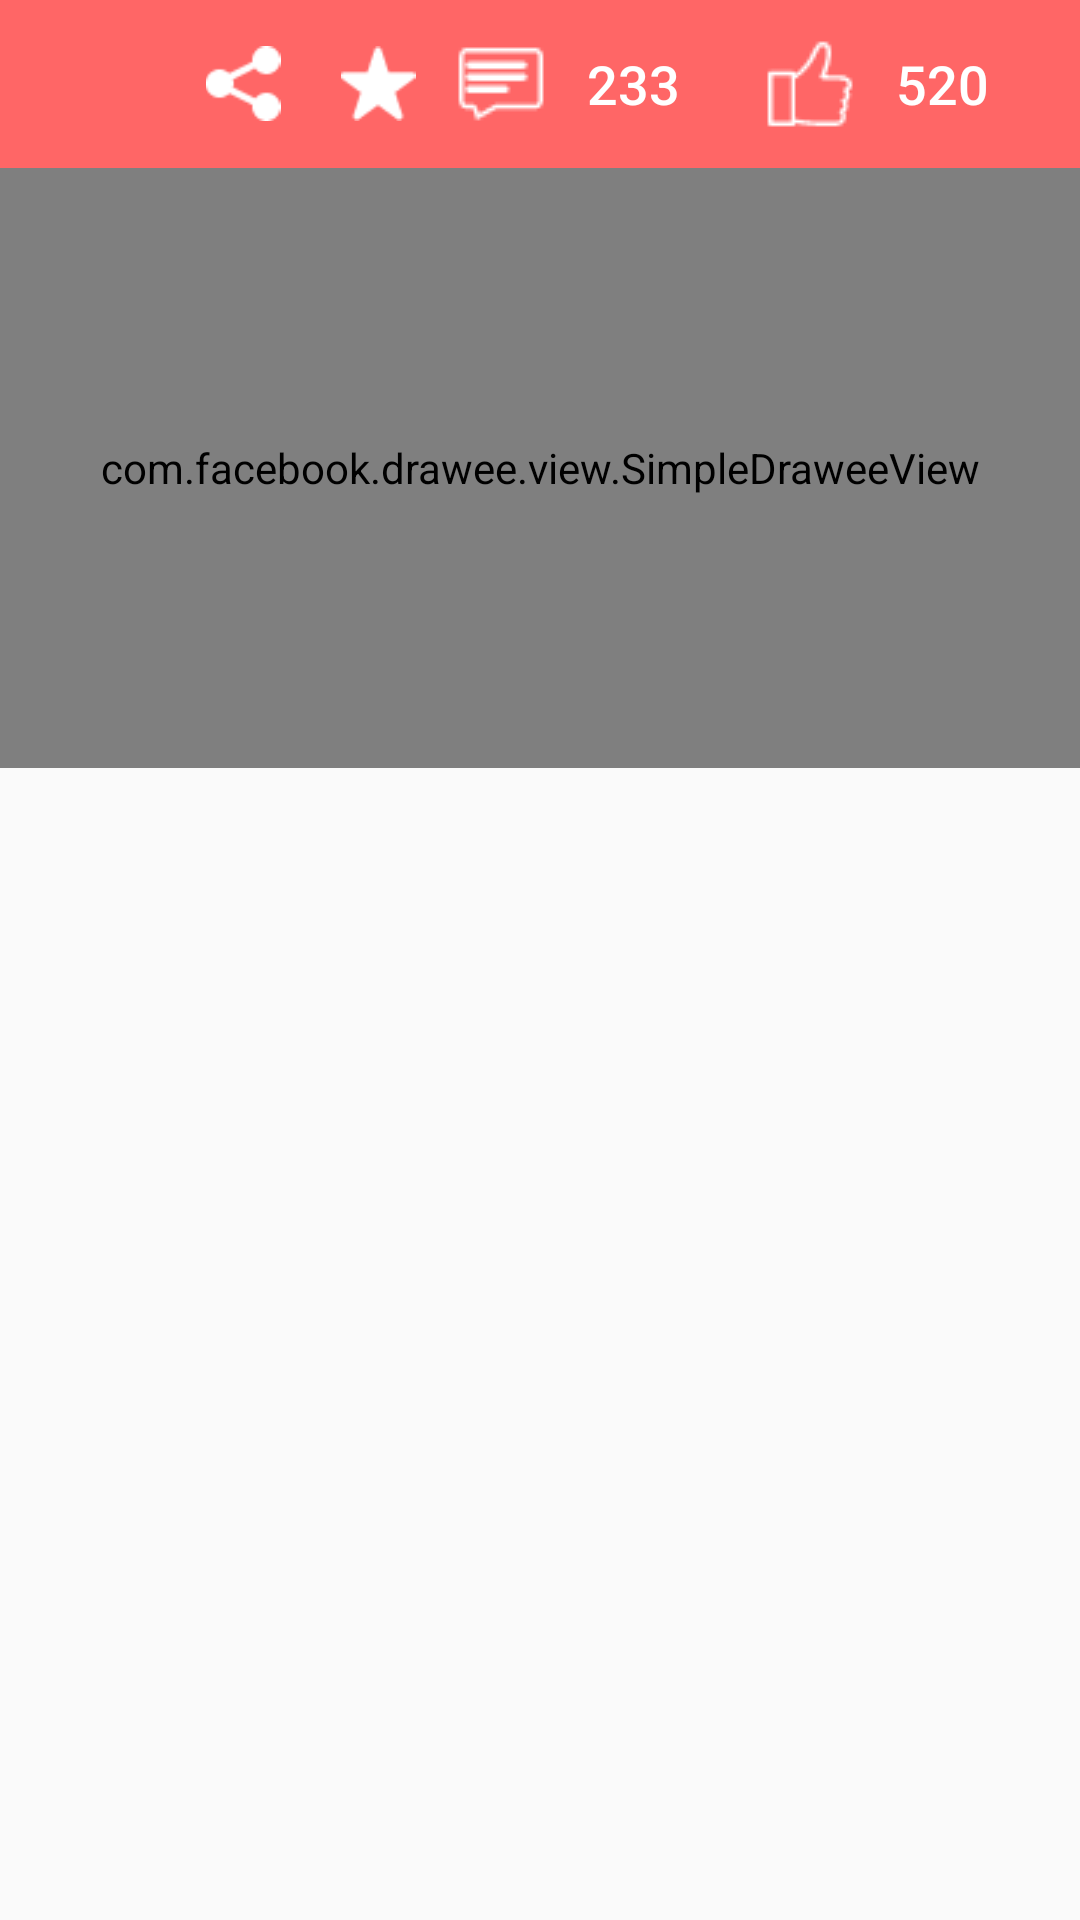

Screen size 1080×1920. Icon name, then its box in pixels as (x1, y1, x2, y2):
details page fav: (341, 46, 416, 121)
details page share: (206, 46, 281, 121)
